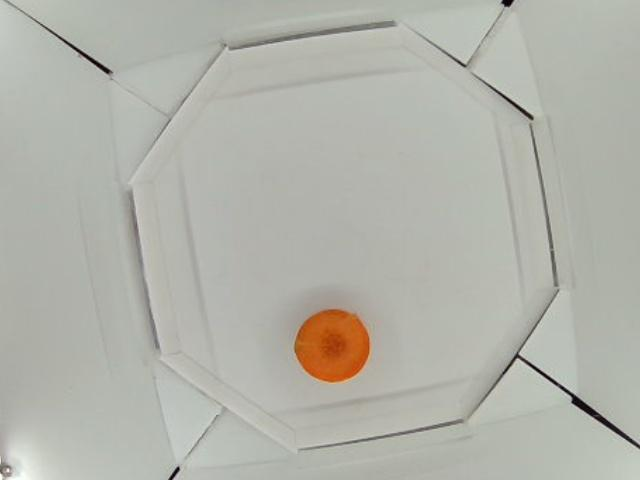Carrot: (294, 308, 372, 383)
